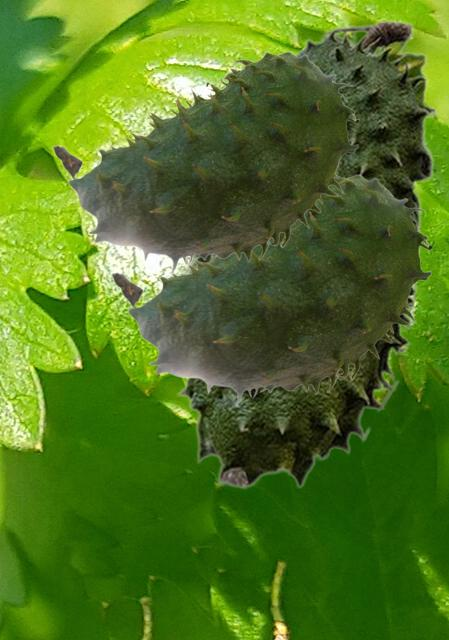guyabano: (175, 18, 436, 489), (111, 174, 432, 406), (52, 51, 359, 273)
